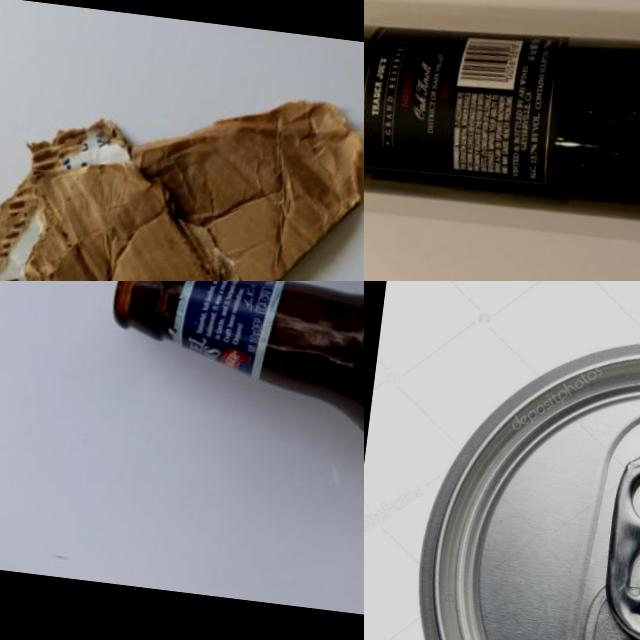aba de lata: (594, 440, 640, 640)
garrafa de vidro: (364, 0, 640, 234), (95, 281, 364, 500)
lata: (390, 314, 640, 640)
papelão: (0, 56, 364, 281)
